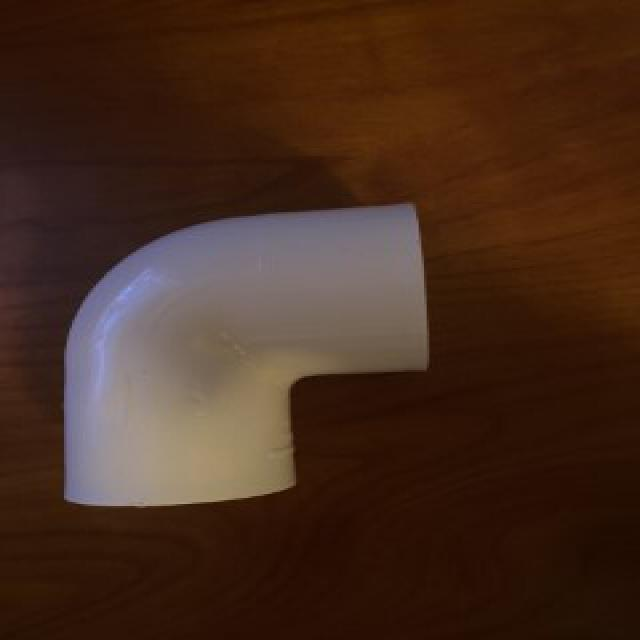L Joint: (63, 202, 429, 510)
